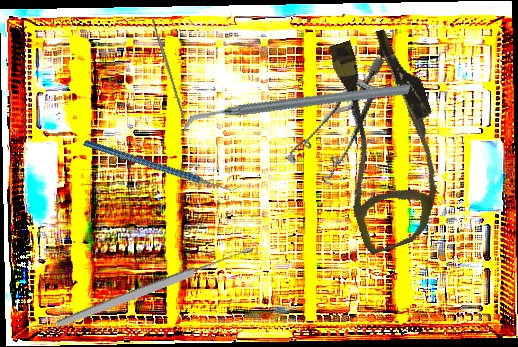Cannula: (302, 22, 469, 257)
Chopper: (182, 26, 412, 189), (82, 92, 245, 237)
Scalpel Handle: (151, 17, 188, 127)
Speculum: (262, 53, 422, 199)
Surgical Spoon: (53, 243, 257, 331)
